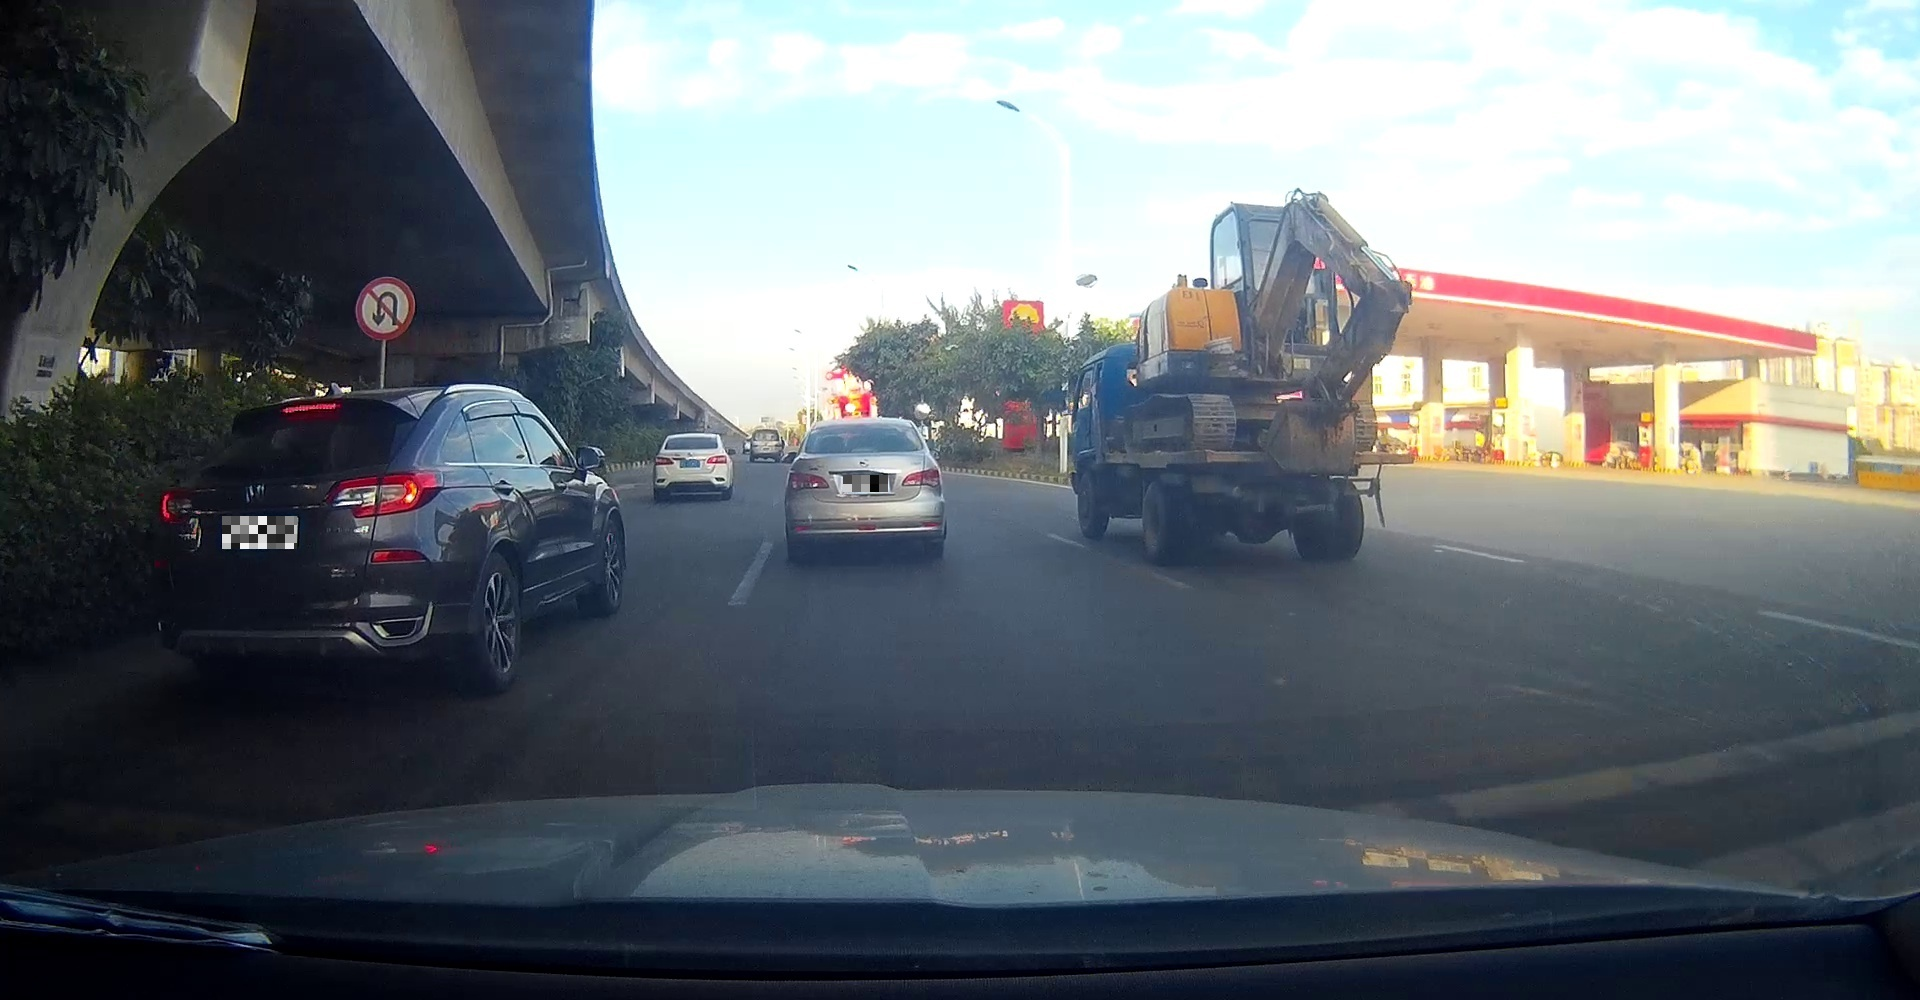L_light: (160, 490, 218, 525), (789, 473, 829, 490), (653, 457, 672, 464)
R_light: (326, 472, 438, 518), (902, 467, 940, 487), (706, 456, 728, 464)
T_light: (281, 402, 340, 415), (855, 424, 874, 429), (687, 438, 698, 440)
day-brake: (154, 390, 442, 698)
day-no: (783, 418, 945, 561), (653, 434, 729, 503)
plate_1: (222, 516, 297, 549)
plate_2: (843, 475, 888, 492)
